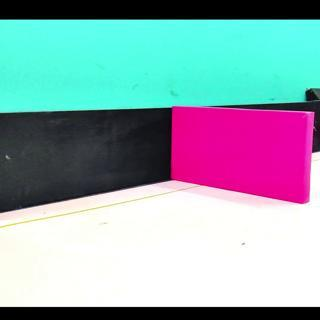xparking: (181, 117, 308, 201)
